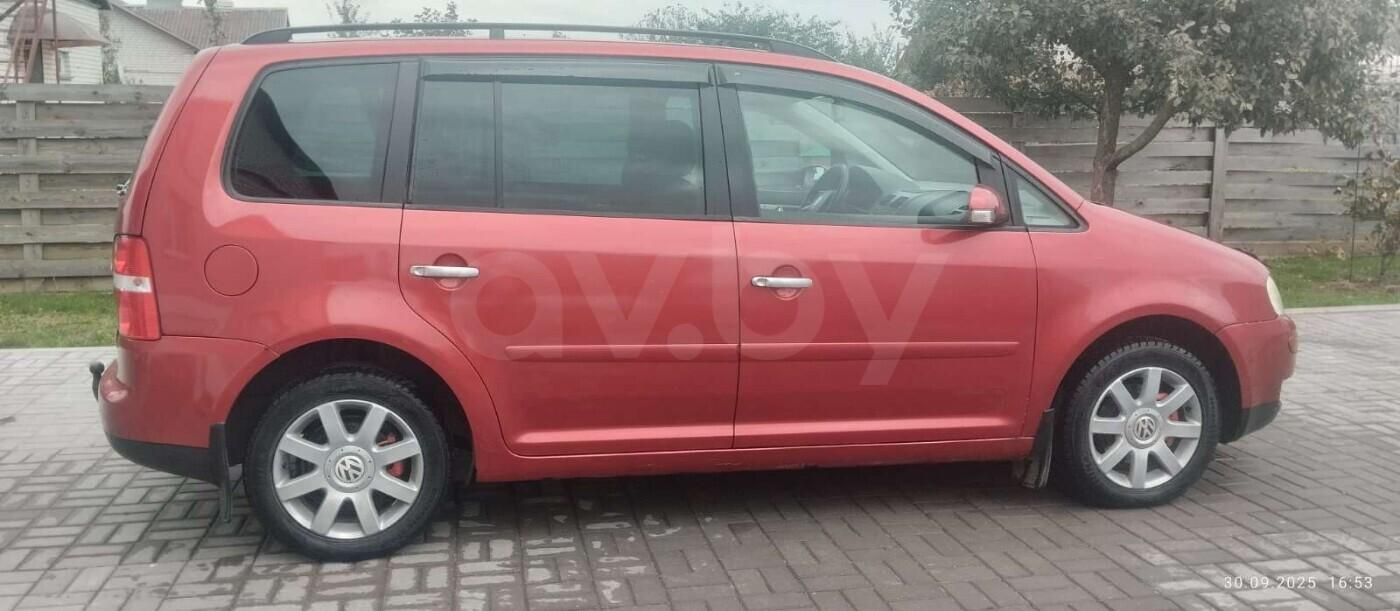Touran_2003-2006: (95, 35, 1297, 561)
